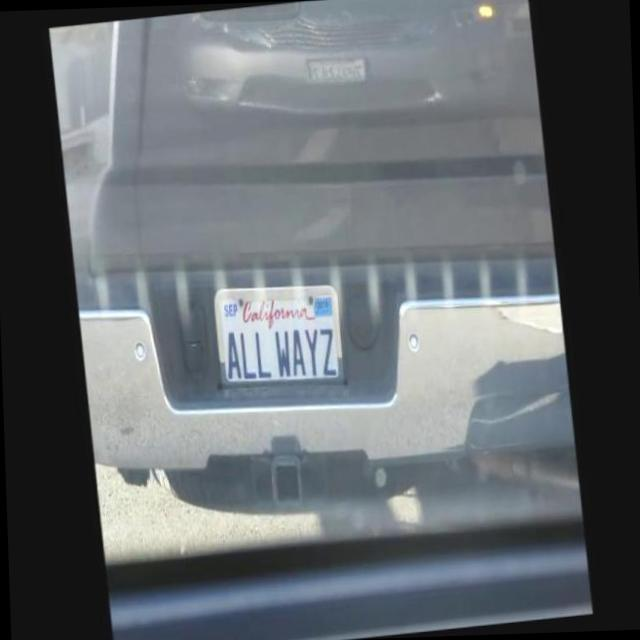LicensePlate: (203, 260, 365, 414)
